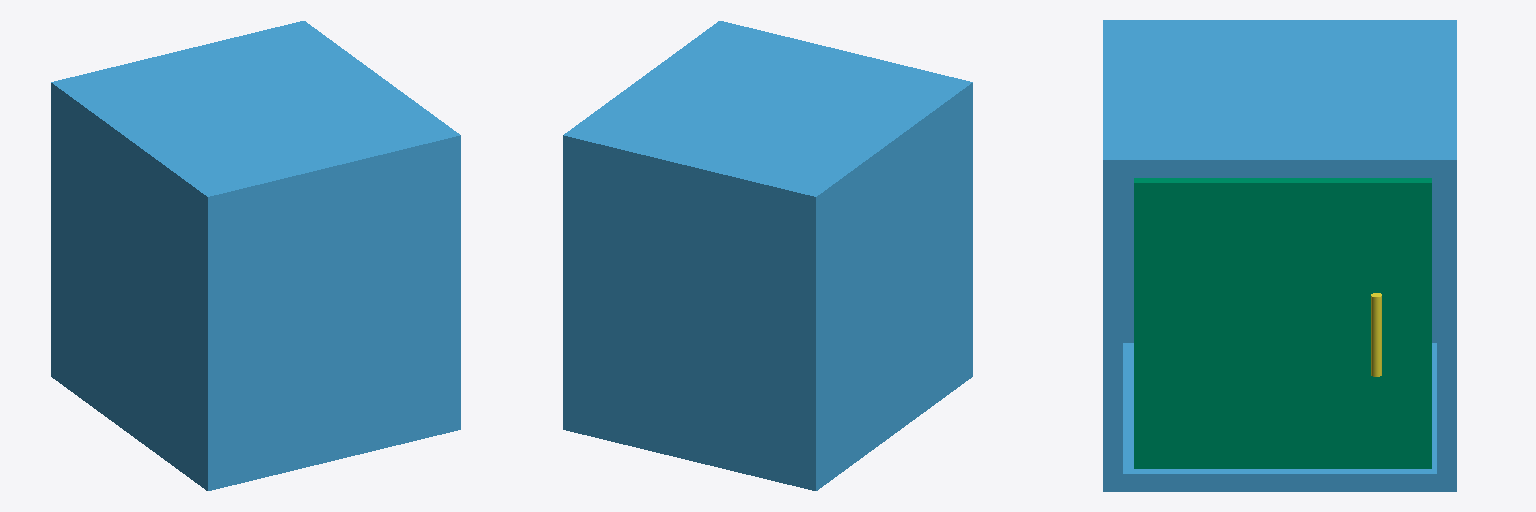
URDF robot description (my_cabinet):
<?xml version="1.0" ?>
<robot name="my_cabinet">
	<link name="world"/>
	<joint name="virtual_joint" type="fixed">
		<parent link="world"/>
		<child link="base_cabinet_link"/>
		<origin xyz="0.0 0.0 0.0" rpy="0.0 0.0 0.0"/>
	</joint>
	<link name="base_cabinet_link">
		<visual>
			<origin xyz="0.0 -0.0025 -0.15760761270231533" rpy="0.0 0.0 0.0"/>
			<geometry>
				<box size="0.3 0.3219012469504226 0.018"/>
			</geometry>
		</visual>
		<collision name="base_cabinet_link_collision_0">
			<origin xyz="0.0 -0.0025 -0.15760761270231533" rpy="0.0 0.0 0.0"/>
			<geometry>
				<box size="0.3 0.3219012469504226 0.018"/>
			</geometry>
		</collision>
		<visual>
			<origin xyz="0.0 0.14945062347521132 0.0" rpy="0.0 0.0 0.0"/>
			<geometry>
				<box size="0.3 0.018 0.33321522540463067"/>
			</geometry>
		</visual>
		<collision name="base_cabinet_link_collision_1">
			<origin xyz="0.0 0.14945062347521132 0.0" rpy="0.0 0.0 0.0"/>
			<geometry>
				<box size="0.3 0.018 0.33321522540463067"/>
			</geometry>
		</collision>
		<visual>
			<origin xyz="0.0 -0.15445062347521132 0.0" rpy="0.0 0.0 0.0"/>
			<geometry>
				<box size="0.3 0.018 0.33321522540463067"/>
			</geometry>
		</visual>
		<collision name="base_cabinet_link_collision_2">
			<origin xyz="0.0 -0.15445062347521132 0.0" rpy="0.0 0.0 0.0"/>
			<geometry>
				<box size="0.3 0.018 0.33321522540463067"/>
			</geometry>
		</collision>
		<visual>
			<origin xyz="0.0 -0.0025 0.15760761270231533" rpy="0.0 0.0 0.0"/>
			<geometry>
				<box size="0.3 0.3219012469504226 0.018"/>
			</geometry>
		</visual>
		<collision name="base_cabinet_link_collision_3">
			<origin xyz="0.0 -0.0025 0.15760761270231533" rpy="0.0 0.0 0.0"/>
			<geometry>
				<box size="0.3 0.3219012469504226 0.018"/>
			</geometry>
		</collision>
		<visual>
			<origin xyz="-0.141 -0.0025 0.0" rpy="0.0 0.0 0.0"/>
			<geometry>
				<box size="0.018 0.3219012469504226 0.33321522540463067"/>
			</geometry>
		</visual>
		<collision name="base_cabinet_link_collision_4">
			<origin xyz="-0.141 -0.0025 0.0" rpy="0.0 0.0 0.0"/>
			<geometry>
				<box size="0.018 0.3219012469504226 0.33321522540463067"/>
			</geometry>
		</collision>
		<inertial>
			<mass value="0.200000"/>
			<inertia ixx="0.003578" ixy="0.0" ixz="0.0" iyy="0.003351" iyz="0.0" izz="0.003227"/>
		</inertial>
	</link>
	<link name="door_link">
		<visual>
			<origin xyz="0.0 -0.1354506234752113 0.0"/>
			<geometry>
				<box size="0.018 0.2709012469504226 0.2872152254046306"/>
			</geometry>
		</visual>
		<collision name="door_link_collision">
			<origin xyz="0.0 -0.1354506234752113 0.0"/>
			<geometry>
				<box size="0.018 0.2709012469504226 0.2872152254046306"/>
			</geometry>
		</collision>
		<inertial>
			<mass value="0.200000"/>
			<inertia ixx="0.002598" ixy="0.0" ixz="0.0" iyy="0.001380" iyz="0.0" izz="0.001229"/>
		</inertial>
	</link>
	<joint name="door_joint" type="revolute">
		<origin xyz="0.141 -0.1354506234752113 0.0" rpy="0.000000 -0.000000 3.141593"/>
		<axis xyz="0 0 1"/>
		<parent link="base_cabinet_link"/>
		<child link="door_link"/>
		<limit effort="50" lower="-1.658062789394613" upper="0" velocity="10"/>
		<dynamics friction="3.5" damping="3.5"/>
	</joint>
	<link name="handle_link">
		<visual>
			<origin xyz="0.0 0.0 0.0" rpy="0.0 0.0 0.0"/>
			<geometry>
				<cylinder length="0.08" radius="0.005"/>
			</geometry>
		</visual>
		<collision name="handle_link_collision_0">
			<origin xyz="0.0 0.0 0.0" rpy="0.0 0.0 0.0"/>
			<geometry>
				<cylinder length="0.08" radius="0.005"/>
			</geometry>
		</collision>
		<visual>
			<origin xyz="-0.01 0.0 0.02" rpy="0.0 1.5707963267948966 0.0"/>
			<geometry>
				<cylinder length="0.02" radius="0.003"/>
			</geometry>
		</visual>
		<collision name="handle_link_collision_1">
			<origin xyz="-0.01 0.0 0.02" rpy="0.0 1.5707963267948966 0.0"/>
			<geometry>
				<cylinder length="0.01" radius="0.003"/>
			</geometry>
		</collision>
		<visual>
			<origin xyz="-0.01 0.0 -0.02" rpy="0.0 1.5707963267948966 0.0"/>
			<geometry>
				<cylinder length="0.02" radius="0.003"/>
			</geometry>
		</visual>
		<collision name="handle_link_collision_2">
			<origin xyz="-0.01 0.0 -0.02" rpy="0.0 1.5707963267948966 0.0"/>
			<geometry>
				<cylinder length="0.02" radius="0.003"/>
			</geometry>
		</collision>
		<inertial>
			<mass value="0.050000"/>
			<inertia ixx="0.000027" ixy="0.0" ixz="0.0" iyy="0.000029" iyz="0.0" izz="0.000003"/>
		</inertial>
	</link>
	<joint name="handle_joint" type="fixed">
		<origin xyz="-0.028999999999999998 -0.22090124695042263 0.0" rpy="0.000000 -0.000000 3.141593"/>
		<parent link="door_link"/>
		<child link="handle_link"/>
	</joint>
	<gazebo reference="base_cabinet_link">
		<sensor name="main_sensor" type="contact">
			<selfCollide>true</selfCollide>
			<alwaysOn>true</alwaysOn>
			<updateRate>5.0</updateRate>
			<material>Gazebo/Red</material>
			<contact>
				<collision>base_cabinet_link_collision_0_collision</collision>
				<collision>base_cabinet_link_collision_1_collision</collision>
				<collision>base_cabinet_link_collision_2_collision</collision>
				<collision>base_cabinet_link_collision_3_collision</collision>
				<collision>base_cabinet_link_collision_4_collision</collision>
			</contact>
			<plugin name="gazebo_ros_bumper_controller" filename="libgazebo_ros_bumper.so">
				<bumperTopicName>/contact</bumperTopicName>
				<frameName>world</frameName>
			</plugin>
		</sensor>
	</gazebo>
	<gazebo reference="door_link">
		<sensor name="main_sensor" type="contact">
			<selfCollide>true</selfCollide>
			<alwaysOn>true</alwaysOn>
			<updateRate>5.0</updateRate>
			<material>Gazebo/Red</material>
			<contact>
				<collision>door_link_collision_collision</collision>
			</contact>
			<plugin name="gazebo_ros_bumper_controller" filename="libgazebo_ros_bumper.so">
				<bumperTopicName>/contact_door</bumperTopicName>
				<frameName>contact_door</frameName>
			</plugin>
		</sensor>
	</gazebo>
	<gazebo reference="door_link">
		<mu>3.0</mu>
		<mu2>3.0</mu2>
		<kp>10000000</kp>
		<kd>100</kd>
	</gazebo>
</robot>

--- Facts derived from the render (not from the file) ---
3 views of the same robot in one strip: view 1: azimuth 30°, elevation 25°; view 2: azimuth 150°, elevation 25°; view 3: azimuth 270°, elevation 25° (orthographic).
Model my_cabinet with 4 links and 3 joints (1 revolute, 2 fixed), rooted at world, posed every joint at zero.
Visible links, largest first — view 1: base_cabinet_link; view 2: base_cabinet_link; view 3: door_link, base_cabinet_link, handle_link.
Boxes of the visible links, x1,y1,x2,y2 form: base_cabinet_link: [51, 21, 460, 490]; base_cabinet_link: [563, 21, 972, 490]; door_link: [1134, 178, 1431, 468]; base_cabinet_link: [1103, 20, 1456, 491]; handle_link: [1371, 293, 1381, 376].
Bounding box of the posed robot: 0.325 × 0.3219 × 0.3332 m (x, y, z).
Geometry: primitives only (box / cylinder / sphere), no mesh files.
